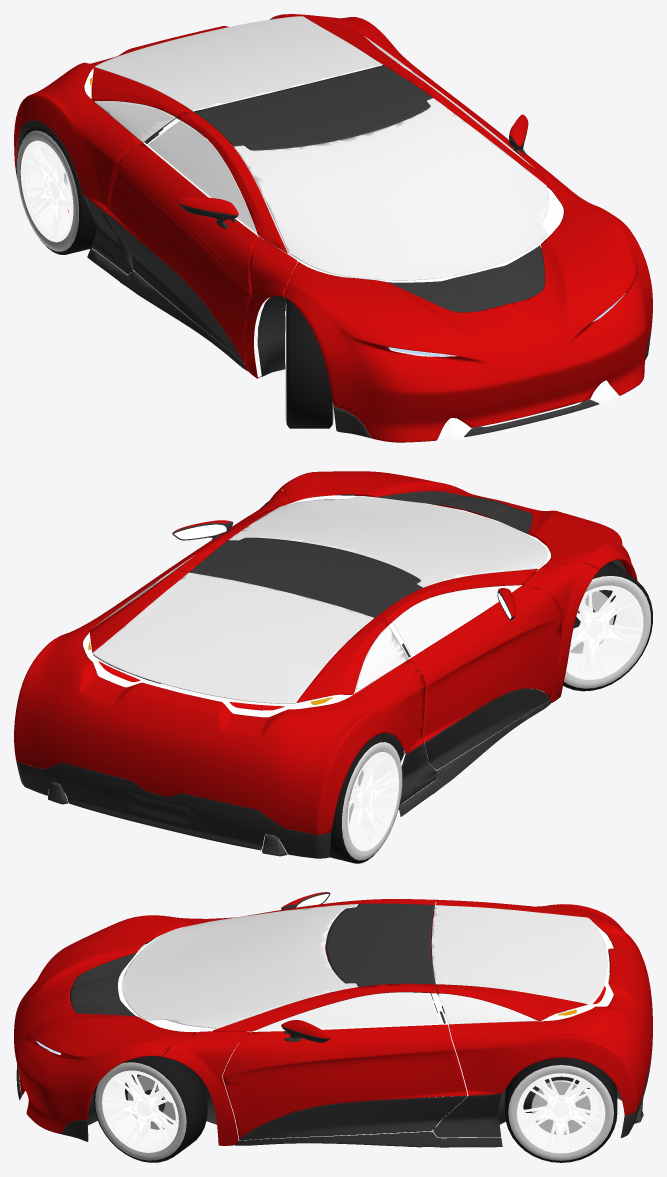
Rendered from car.glb.
3 views of the same model, one above another, from view 1: azimuth 30°, elevation 25°; view 2: azimuth 150°, elevation 25°; view 3: azimuth 270°, elevation 25° (orthographic). The views are drawn at different scales.
Visible parts, largest first — view 1: BodyHood, BodyWindshield, BodyRearwindow, BodyDoorRColor1, BodyRearPanelsColor1, BodyRoofPanel, BodyPillars, BodyPanelsColor2, BodyHoodTopgrill, WheelFrontR, BodyDoorRWindow, WheelRearRRim (+8 smaller); view 2: BodyRearPanelsColor1, BodyRearwindow, BodyWindshield, BodyPanelsColor2, BodyDoorRColor1, BodyRoofPanel, BodyHood, BodyPillars, WheelFrontRRim, BodyDoorRColor2, WheelRearRRim, BodyDoorRWindow (+7 smaller); view 3: BodyWindshield, BodyRearPanelsColor1, BodyDoorLColor1, BodyHood, BodyRearwindow, BodyRoofPanel, BodyPillars, BodyDoorLColor2, BodyPanelsColor2, WheelFrontL, WheelRearLRim, WheelFrontLRim (+10 smaller).
Boxes of the visible parts, x1,y1,x2,y2 form: BodyHood: (283,198,652,442); BodyWindshield: (234,98,549,280); BodyRearwindow: (94,16,382,111); BodyDoorRColor1: (104,143,257,362); BodyRearPanelsColor1: (14,14,432,210); BodyRoofPanel: (193,65,432,150); BodyPillars: (176,61,598,378); BodyPanelsColor2: (15,110,651,438); BodyHoodTopgrill: (388,245,544,312); WheelFrontR: (285,299,333,428); BodyDoorRWindow: (148,120,257,234); WheelRearRRim: (20,140,73,242); BodyRearPanelsColor1: (14,569,425,834); BodyRearwindow: (92,572,373,703); BodyWindshield: (229,496,547,587); BodyPanelsColor2: (16,681,550,858); BodyDoorRColor1: (409,585,562,742); BodyRoofPanel: (189,537,422,617); BodyHood: (279,471,637,580); BodyPillars: (175,489,599,702); WheelFrontRRim: (566,585,643,679); BodyDoorRColor2: (424,688,549,769); WheelRearRRim: (347,752,398,850); BodyDoorRWindow: (392,585,519,655); BodyWindshield: (122,904,358,1028); BodyRearPanelsColor1: (436,899,652,1115); BodyDoorLColor1: (222,1024,467,1139); BodyHood: (14,915,196,1133); BodyRearwindow: (431,905,607,1004); BodyRoofPanel: (326,903,434,986); BodyPillars: (163,899,437,1145); BodyDoorLColor2: (240,1096,467,1140); BodyPanelsColor2: (16,1000,652,1147); WheelFrontL: (93,1050,207,1162); WheelRearLRim: (517,1073,605,1153); WheelFrontLRim: (102,1070,178,1152).
Size of the model in its own units: 2.54 by 1.15 by 4.36.
